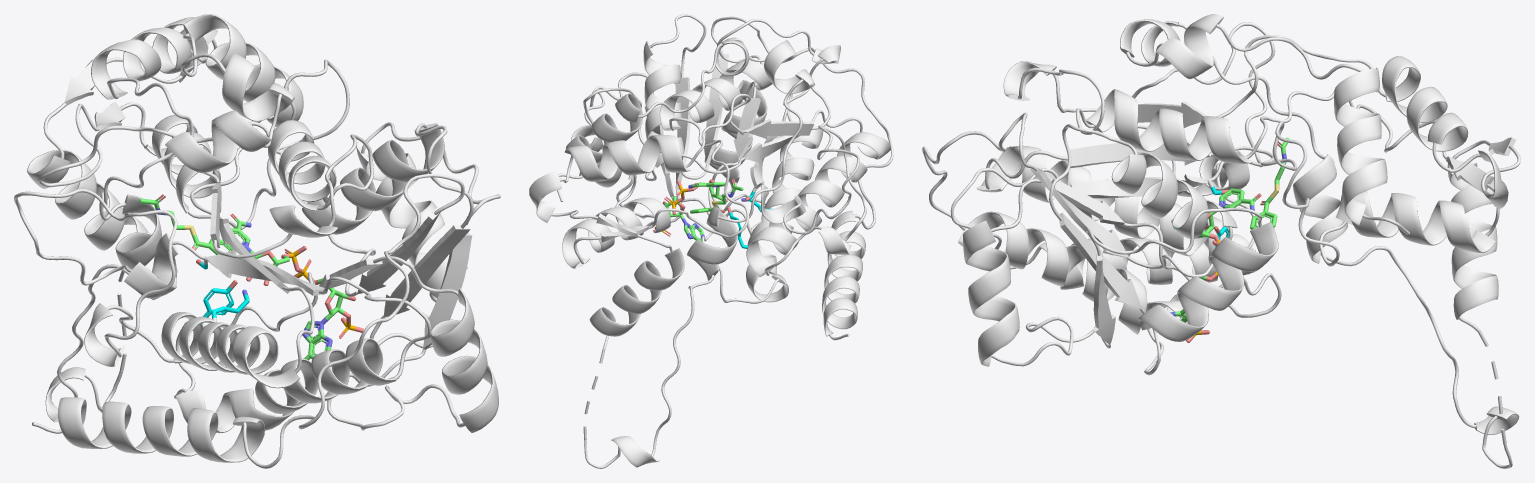
File: Fig3panelA.gltf
3 views of the same model, side by side, from view 1: azimuth 30°, elevation 25°; view 2: azimuth 150°, elevation 25°; view 3: azimuth 270°, elevation 25° (orthographic). The views are drawn at different scales.
Parts seen in each view (by area): view 1: node-geom25, node-geom27, node-geom26, node-geom28; view 2: node-geom27, node-geom26, node-geom25, node-geom28; view 3: node-geom27, node-geom25, node-geom26, node-geom28.
Boxes of the visible parts, x1,y1,x2,y2 form: node-geom25: (32, 122, 500, 468); node-geom27: (27, 14, 373, 422); node-geom26: (14, 59, 431, 433); node-geom28: (183, 25, 303, 127); node-geom27: (529, 19, 840, 468); node-geom26: (562, 88, 890, 302); node-geom25: (571, 14, 893, 340); node-geom28: (557, 98, 637, 201); node-geom27: (1003, 14, 1520, 468); node-geom25: (922, 112, 1281, 375); node-geom26: (950, 22, 1499, 334); node-geom28: (1334, 80, 1409, 234).
Bounding box in the file's own units: 48.45 × 53.42 × 65.38.
